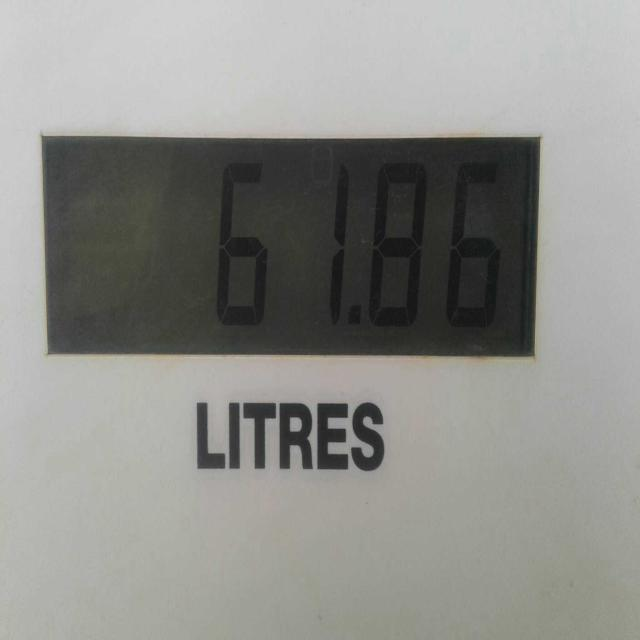.: (344, 285, 372, 346)
1: (312, 154, 364, 339)
6: (208, 144, 288, 352)
8: (438, 148, 516, 350), (362, 150, 436, 352)
